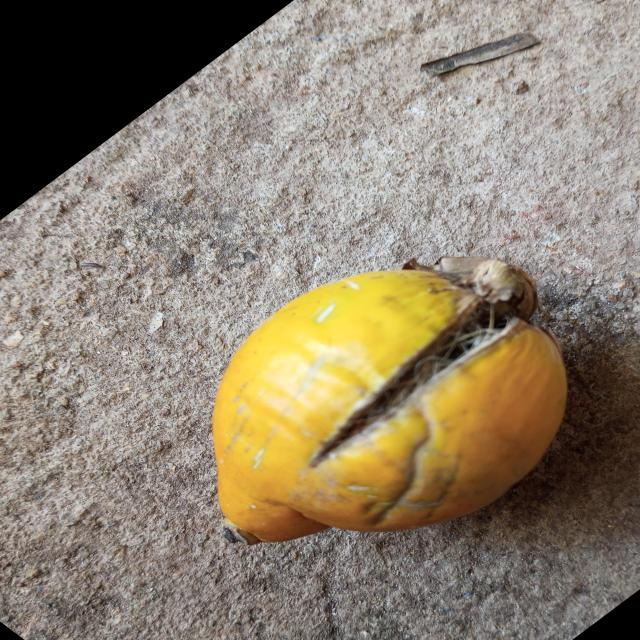damaged: (211, 256, 569, 548)
